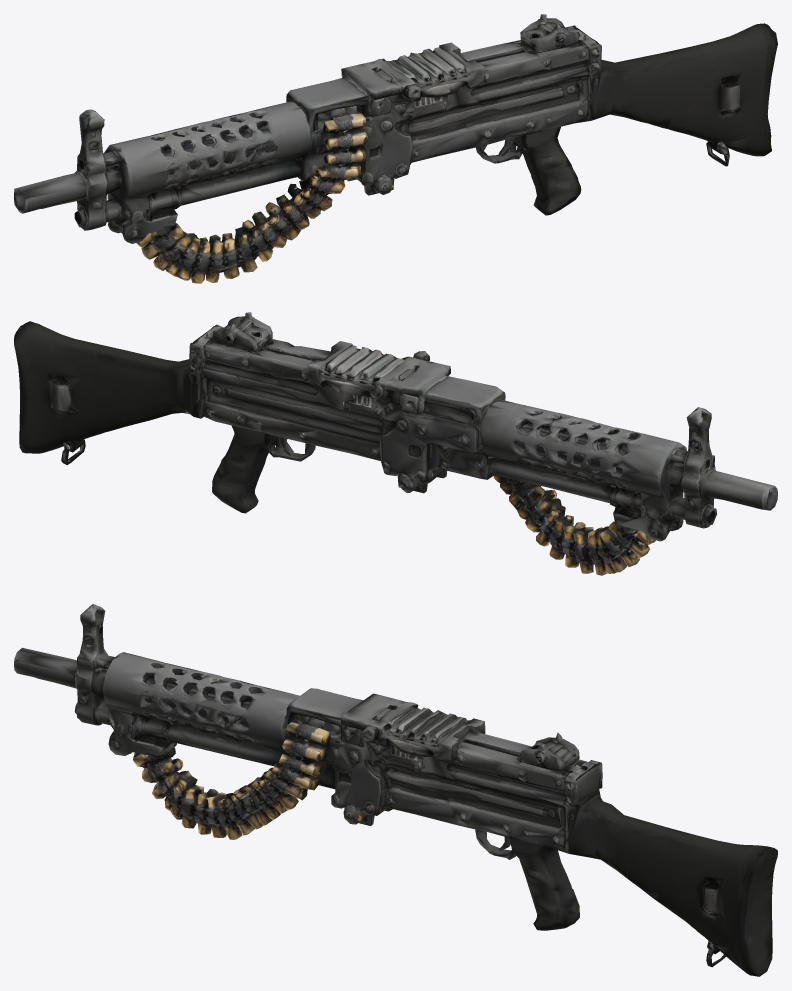
Rendered from machine-gun.glb.
The picture shows the model from 3 angles, top to bottom: view 1: azimuth 30°, elevation 25°; view 2: azimuth 150°, elevation 25°; view 3: azimuth 330°, elevation 25°; orthographic projection.
Parts seen in each view (by area): view 1: tripo_node_062f23b6-1ce0-4d81-878e-31a47f912cdf; view 2: tripo_node_062f23b6-1ce0-4d81-878e-31a47f912cdf; view 3: tripo_node_062f23b6-1ce0-4d81-878e-31a47f912cdf.
Part boxes in pixels (<box>): tripo_node_062f23b6-1ce0-4d81-878e-31a47f912cdf: <box>14,14,777,283</box>; tripo_node_062f23b6-1ce0-4d81-878e-31a47f912cdf: <box>14,312,777,575</box>; tripo_node_062f23b6-1ce0-4d81-878e-31a47f912cdf: <box>14,604,777,976</box>.
Size of the model in its own units: 0.9849 by 0.2664 by 0.1023.
Materials: 1 (1 with a texture image).
